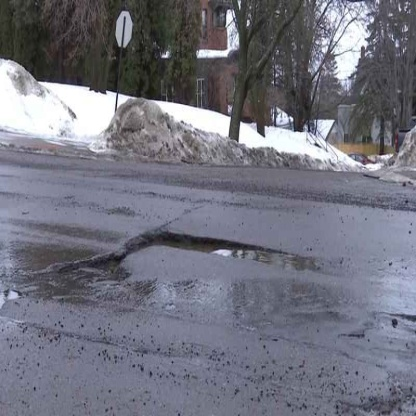pothole: (42, 219, 322, 304)
